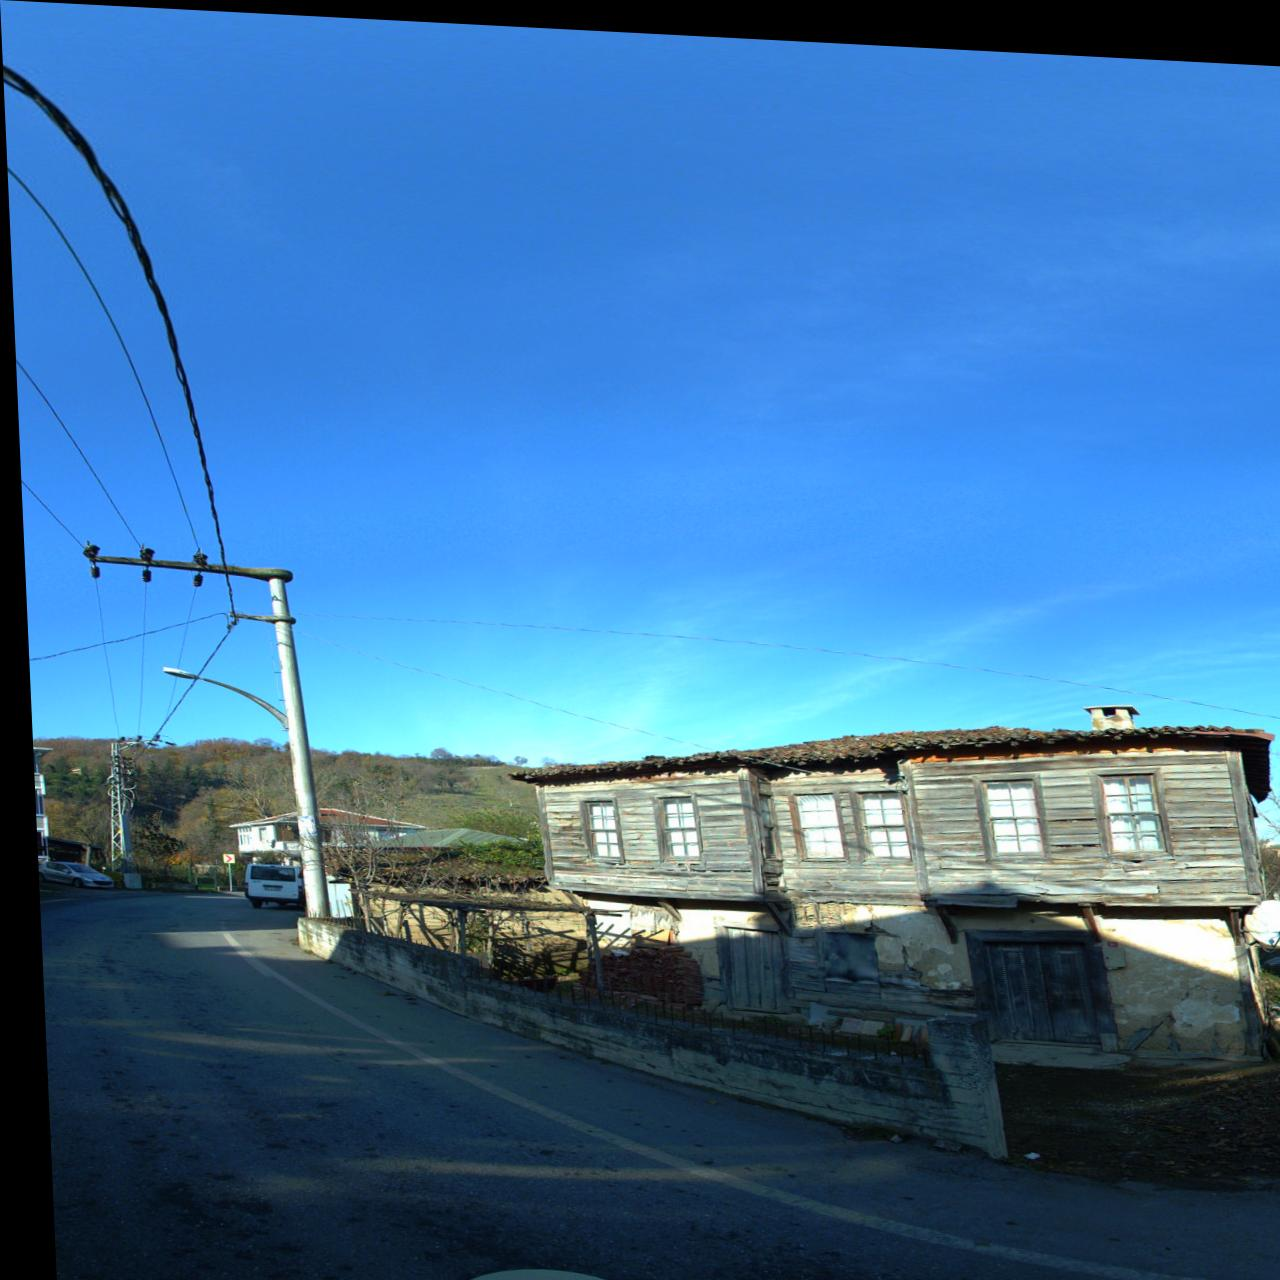Utility Pole Information Plate: (110, 829, 115, 832)
